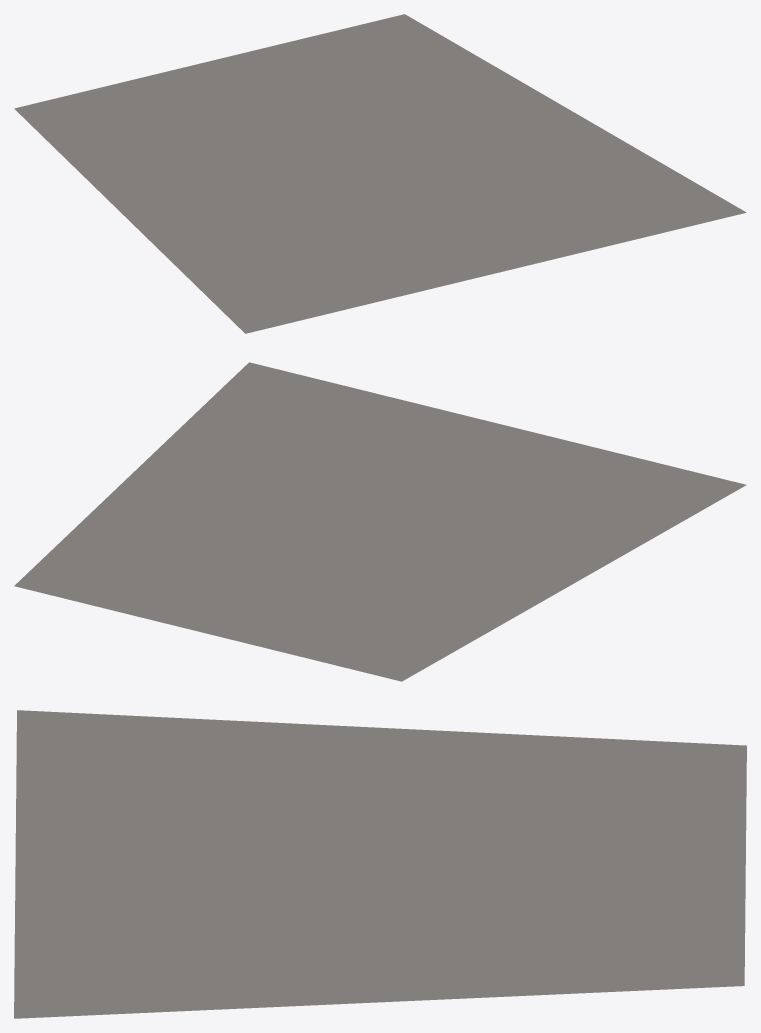
Rendered from SF_Env_Stonepath_03.fbx.
The picture shows the model from 3 angles, top to bottom: view 1: azimuth 30°, elevation 25°; view 2: azimuth 150°, elevation 25°; view 3: azimuth 270°, elevation 25°; orthographic projection. The views are drawn at different scales.
Visible parts, largest first — view 1: SF_Env_Stonepath_03; view 2: SF_Env_Stonepath_03; view 3: SF_Env_Stonepath_03.
Boxes of the visible parts, box(x1,y1,x2,y2) form: SF_Env_Stonepath_03: box(14, 14, 746, 333); SF_Env_Stonepath_03: box(14, 362, 746, 681); SF_Env_Stonepath_03: box(14, 710, 746, 1018).
Size of the model in its own units: 1.23 by 0 by 1.23.
